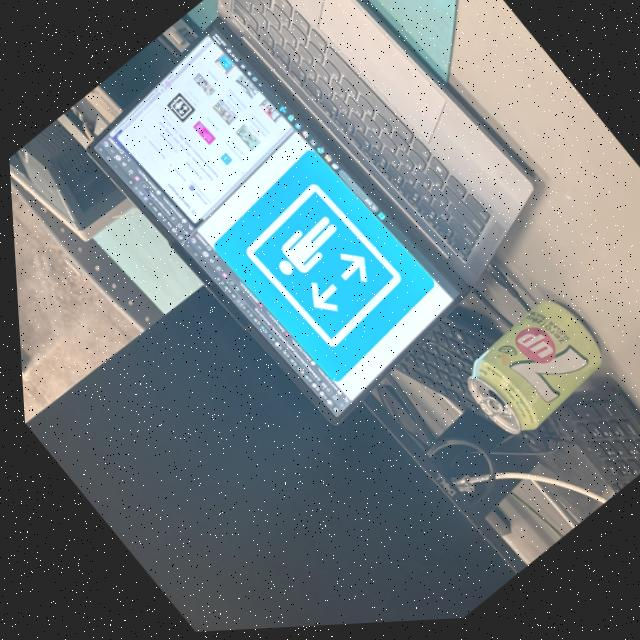elevator: (212, 145, 438, 382)
